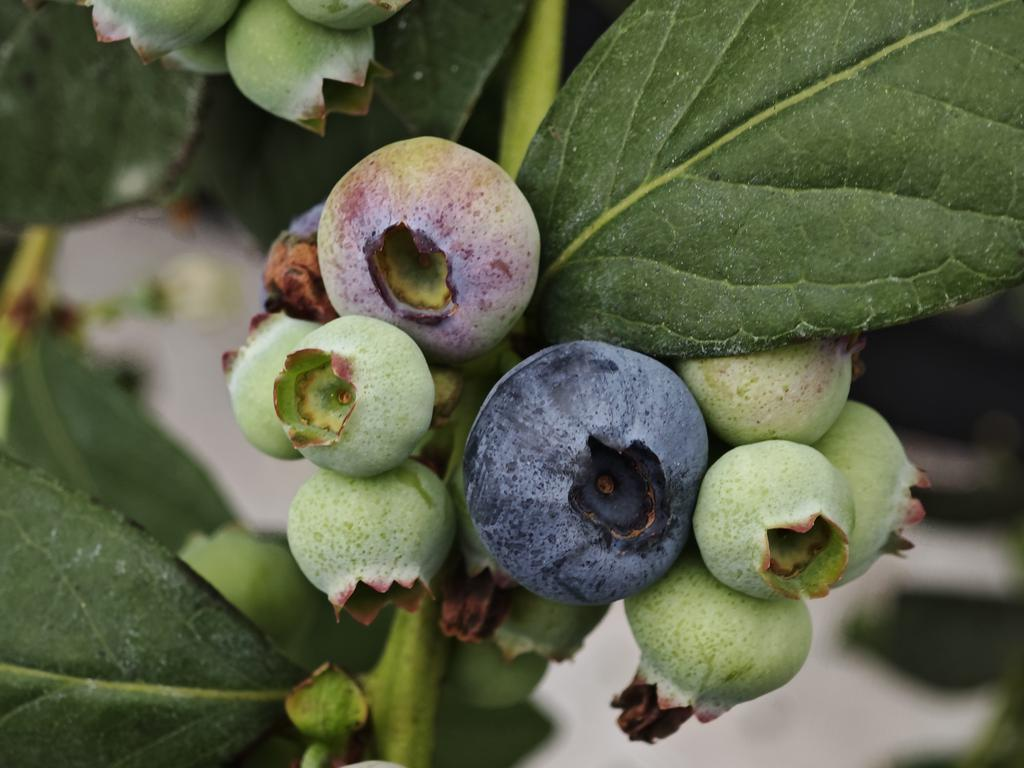RipeBlueBerry: (464, 337, 697, 601)
Semi-RipeBlueBerry: (319, 137, 540, 344)
UnripeBlueBerry: (267, 316, 444, 481), (697, 436, 849, 600)
